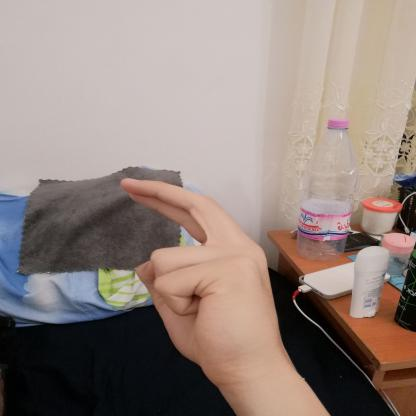ZAY: (105, 166, 295, 384)
